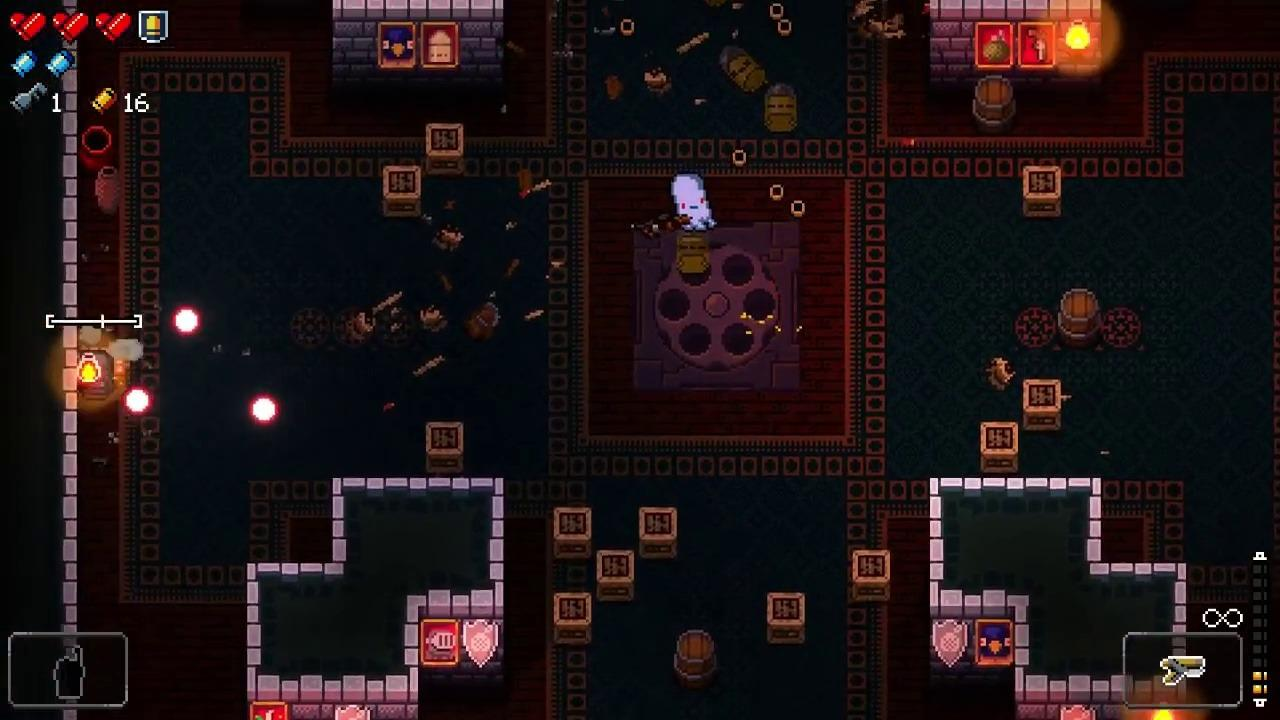bullet: (122, 386, 152, 416), (172, 308, 201, 337), (252, 398, 277, 424)
dead_bullet_kin: (721, 45, 767, 92), (766, 82, 795, 134), (678, 230, 709, 275)
hollowpoint: (668, 173, 716, 233)
player: (78, 347, 115, 403)
teleporter: (635, 221, 801, 394)
